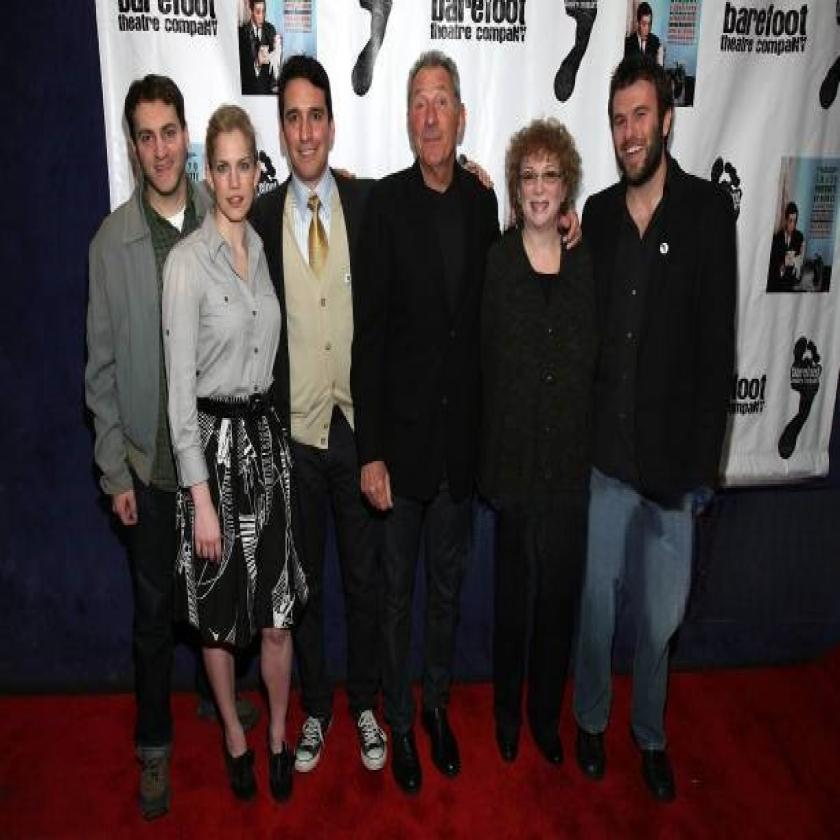Sin_casco: (603, 45, 693, 206), (388, 33, 474, 182), (120, 54, 197, 210), (506, 105, 586, 245), (272, 38, 346, 179), (208, 88, 264, 233)
